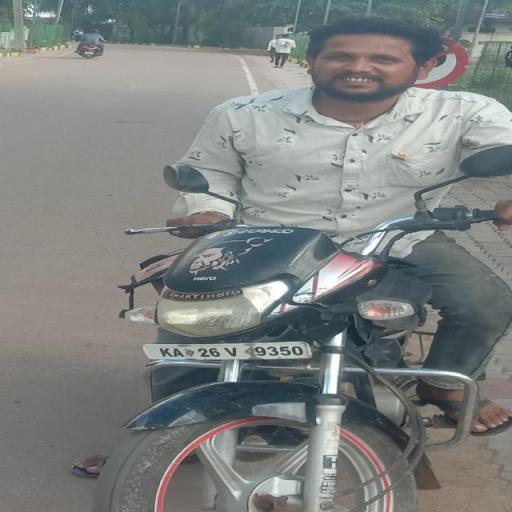bike: (100, 24, 512, 512)
numberplate: (144, 342, 310, 364)
withouthelmet: (310, 19, 442, 98)
